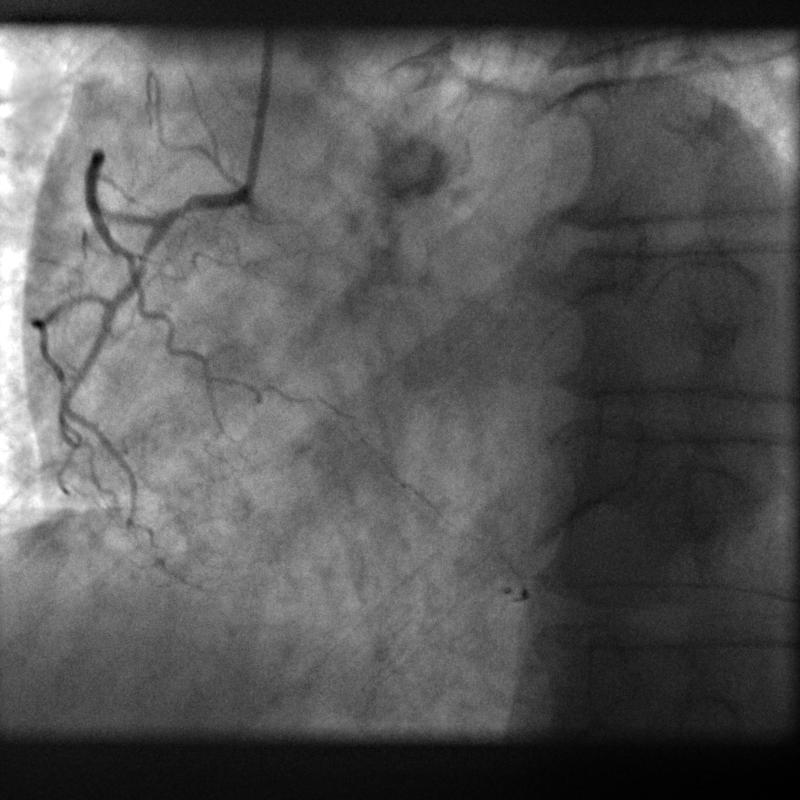Stenosis: (165, 193, 195, 232)
